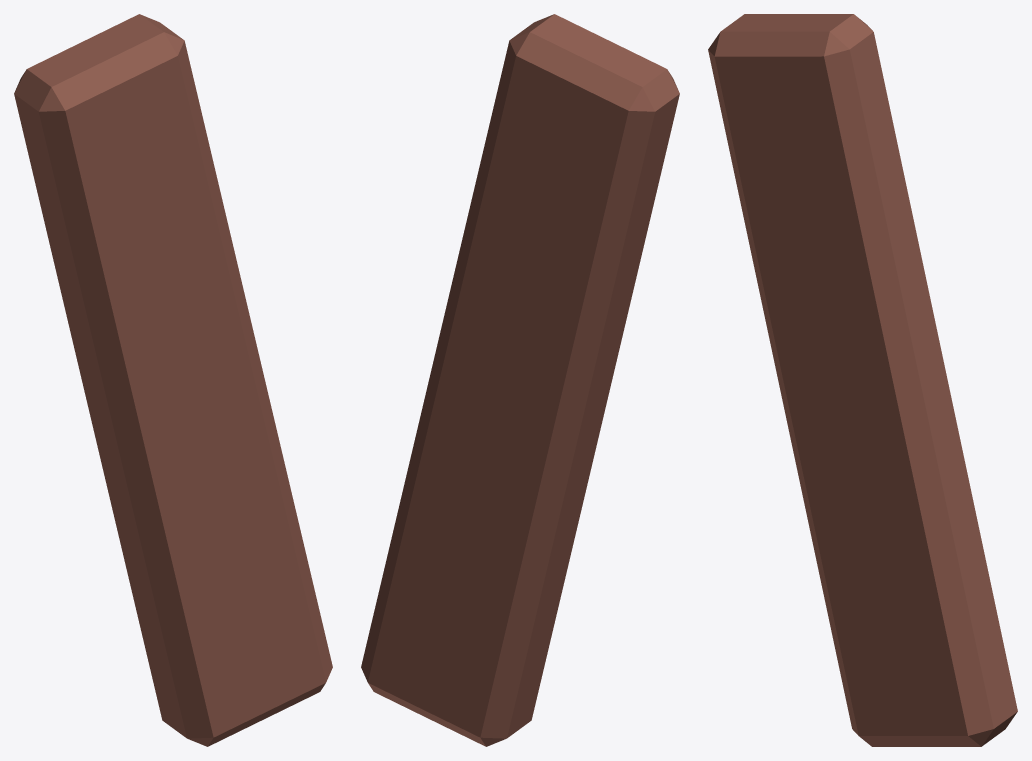
The model's file is scar_brow_notch.glb.
3 views of the same model, side by side, from view 1: azimuth 30°, elevation 25°; view 2: azimuth 150°, elevation 25°; view 3: azimuth 330°, elevation 25° (orthographic). The views are drawn at different scales.
Parts seen in each view (by area): view 1: scar_brow_notch; view 2: scar_brow_notch; view 3: scar_brow_notch.
Part boxes in pixels (<box>): scar_brow_notch: <box>14,14,332,746</box>; scar_brow_notch: <box>361,14,679,746</box>; scar_brow_notch: <box>708,14,1017,746</box>.
Bounding box in the file's own units: 0.0687 × 0.1619 × 0.018.
